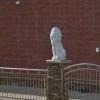Statue: (40, 20, 73, 64)
